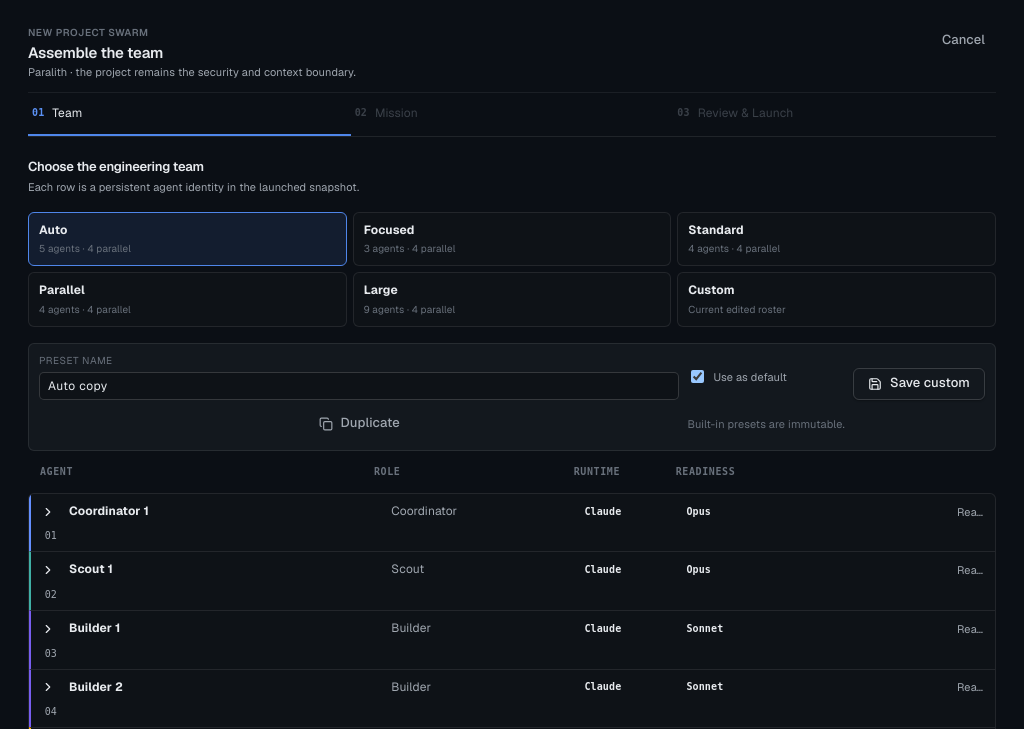
Test: Swarm model identity contract › resolves a canonical model for every member of the Parallel preset
Expected: the text "Auto" is shown, [39,222,68,238]
Click the text "Parallel" at (62, 290), box [39,282,85,298]
(page scrolled)
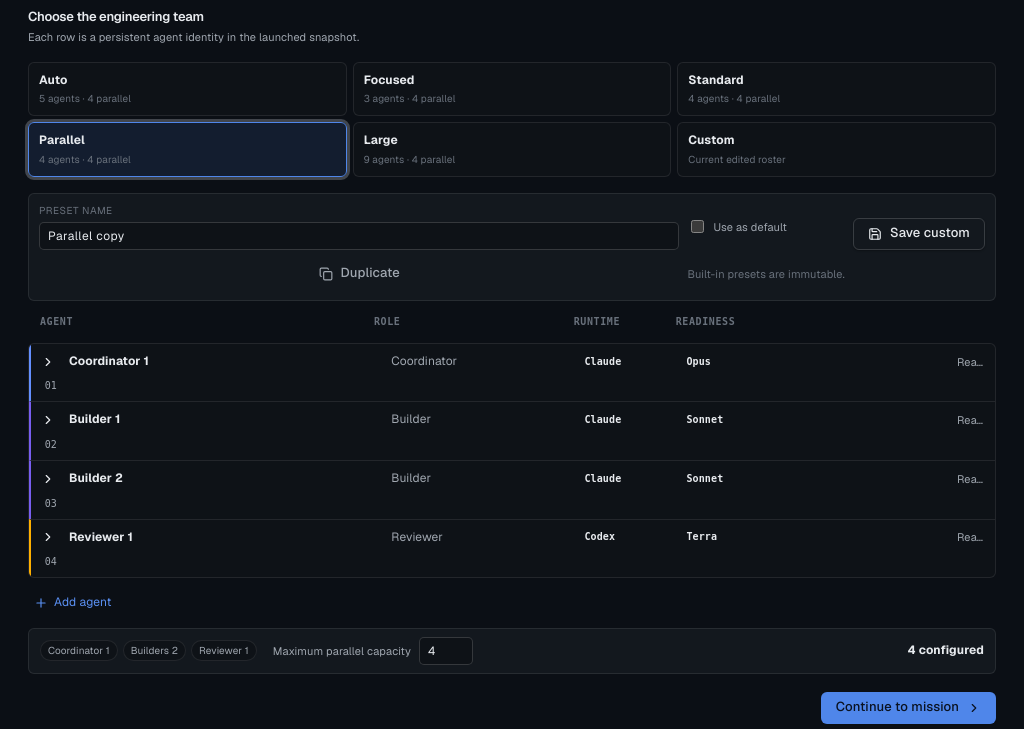
Click the button "Continue to mission" at (908, 708), box [821,692,996,724]
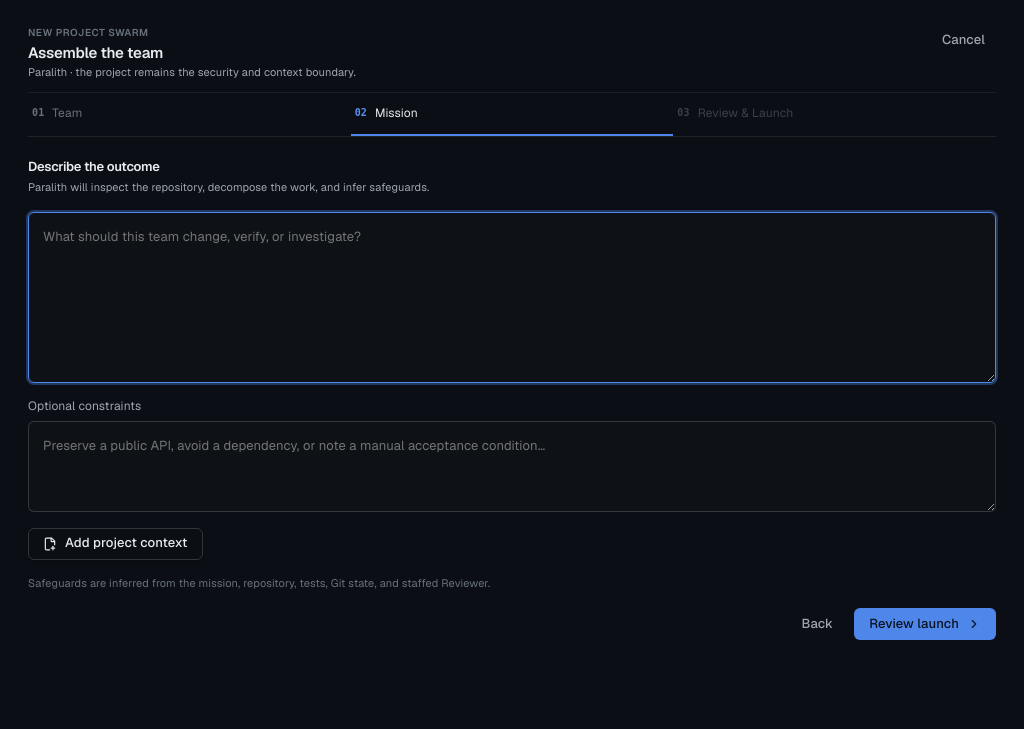
Type "Repair the notification pipeline" into the text box with placeholder "What should this team change, verify, or investigate?" at (512, 297), box [28,212,996,383]
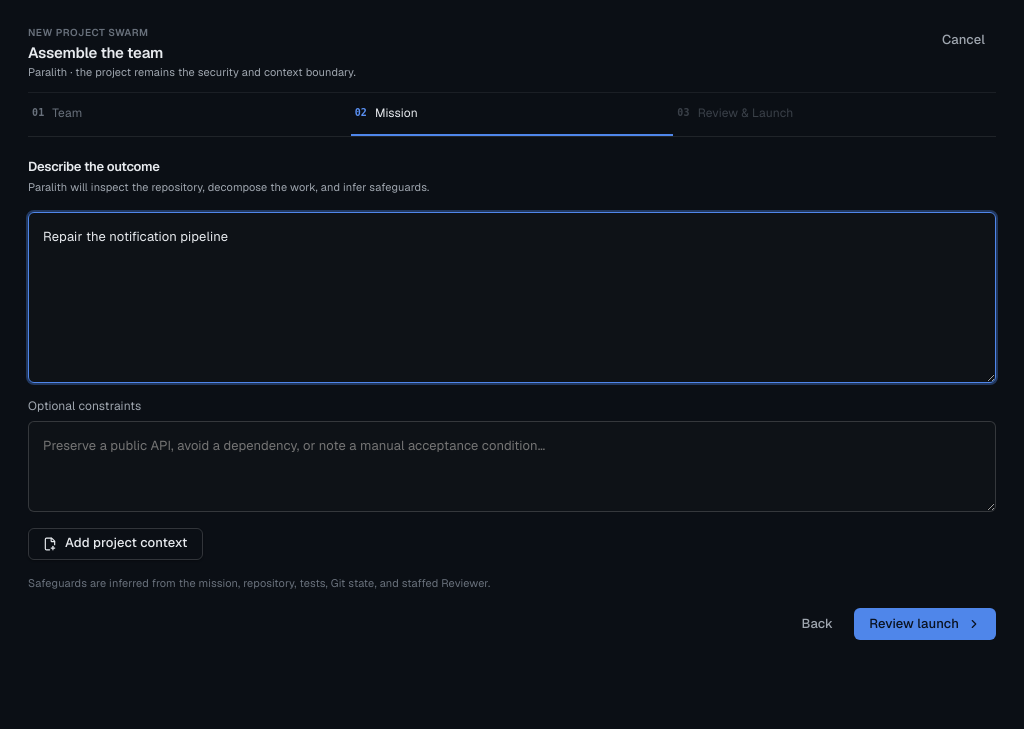
Click the button "Review launch" at (925, 624), box [854,608,996,640]
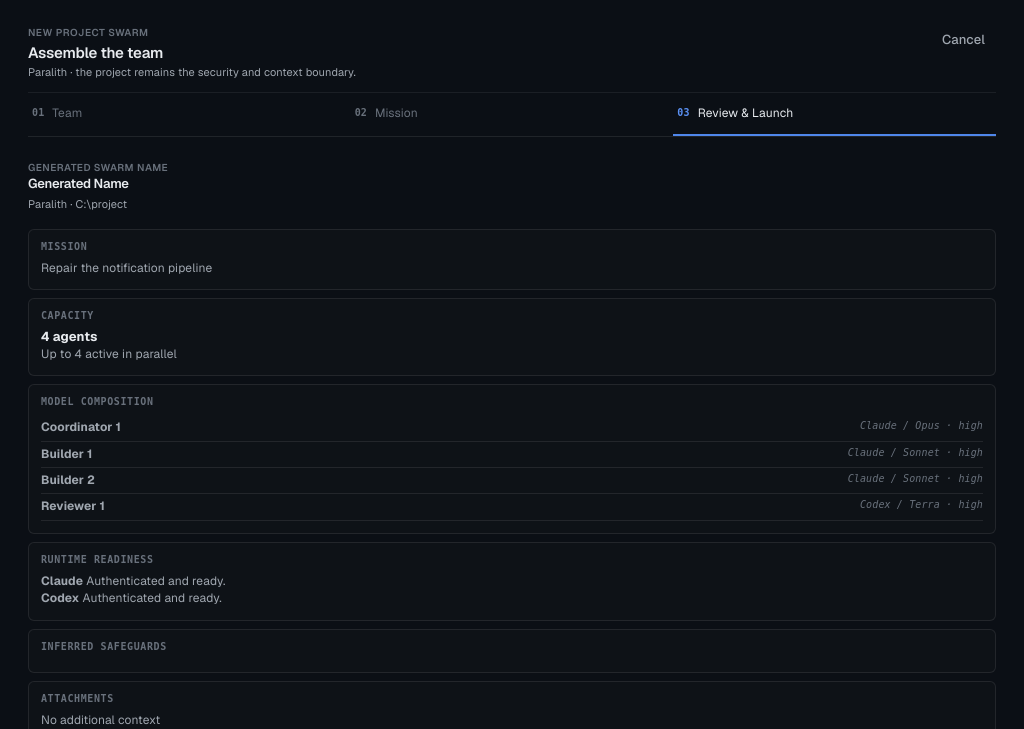
Result: the heading "Generated Name" is shown at [28,175,129,192]
